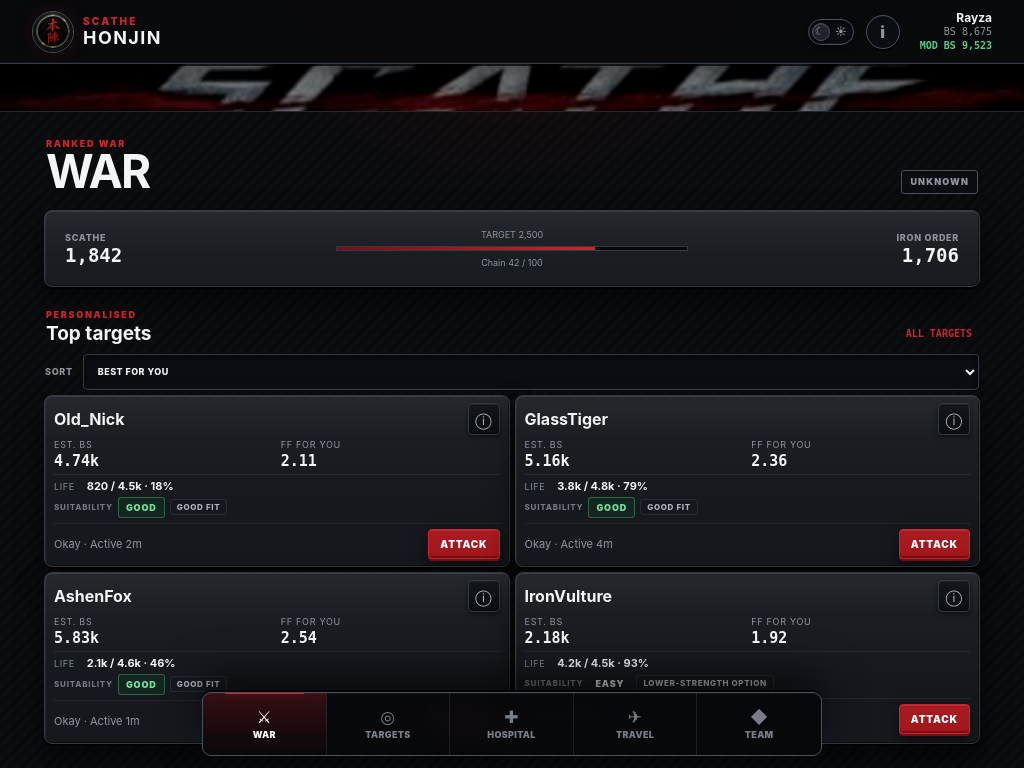
HONJIN mobile shell › opens current-user battlestat modifier detail from the header
expect the text "MOD BS 9,523" is shown: met, box [920, 39, 992, 53]
Click the button with aria-label "Battle stats for Rayza".
click(952, 32)  # box [912, 8, 992, 55]
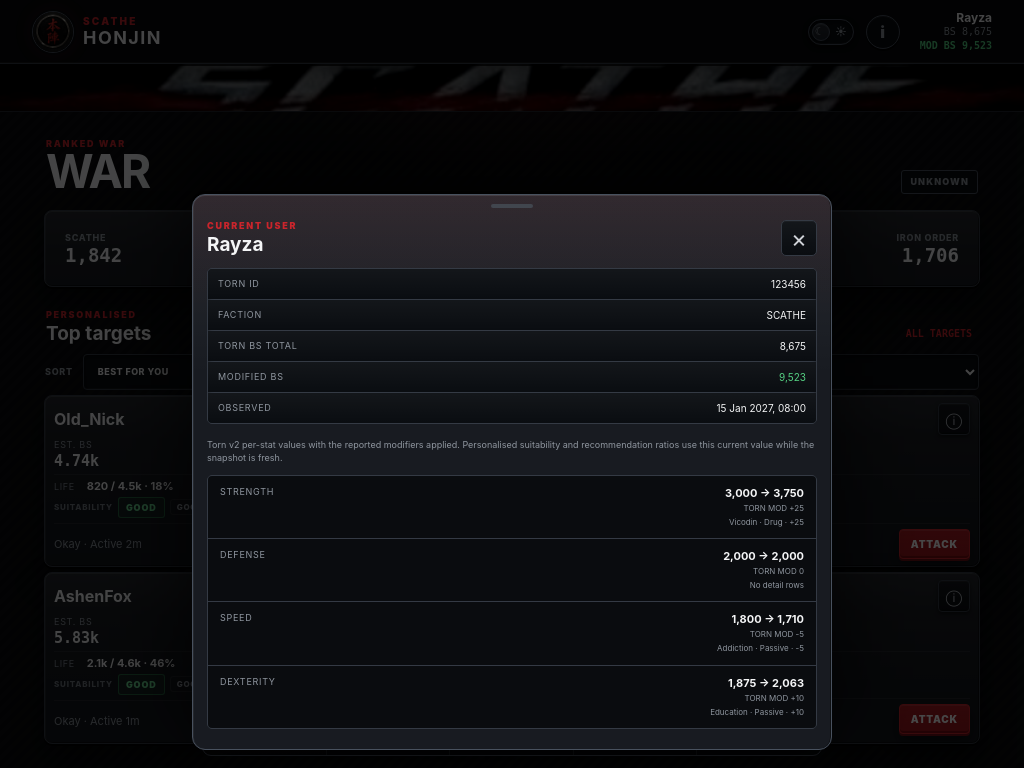
expect the dialog named "Battle stats for Rayza" is shown: met, box [192, 194, 832, 750]
expect the text "9,523" is shown: met, box [779, 371, 806, 383]
expect the text "TORN MOD +25" is shown: met, box [744, 502, 804, 512]
